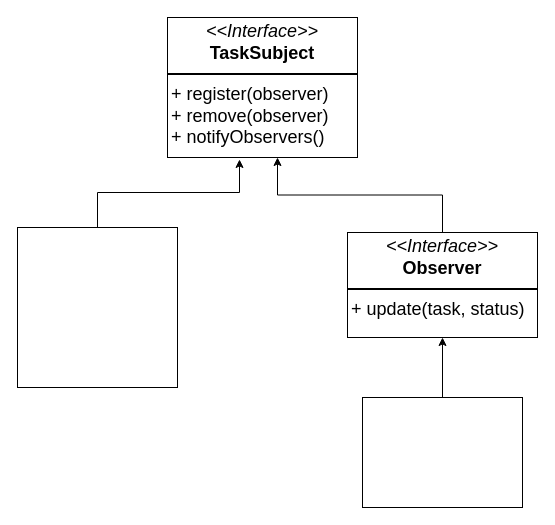
The diagram is 555 pixels wide and 525 high, and some of its shapes have lost their labels. The shapes that lost their labels are listed below. From the top down, each one's box as (x1, y1, x2, y2) in pixels, then its label:
(16, 226, 178, 388): Task - status: String - observers: List<> + setStatus(status) + getStatus()
(362, 396, 522, 508): TeamMember - name: String + update(price)
